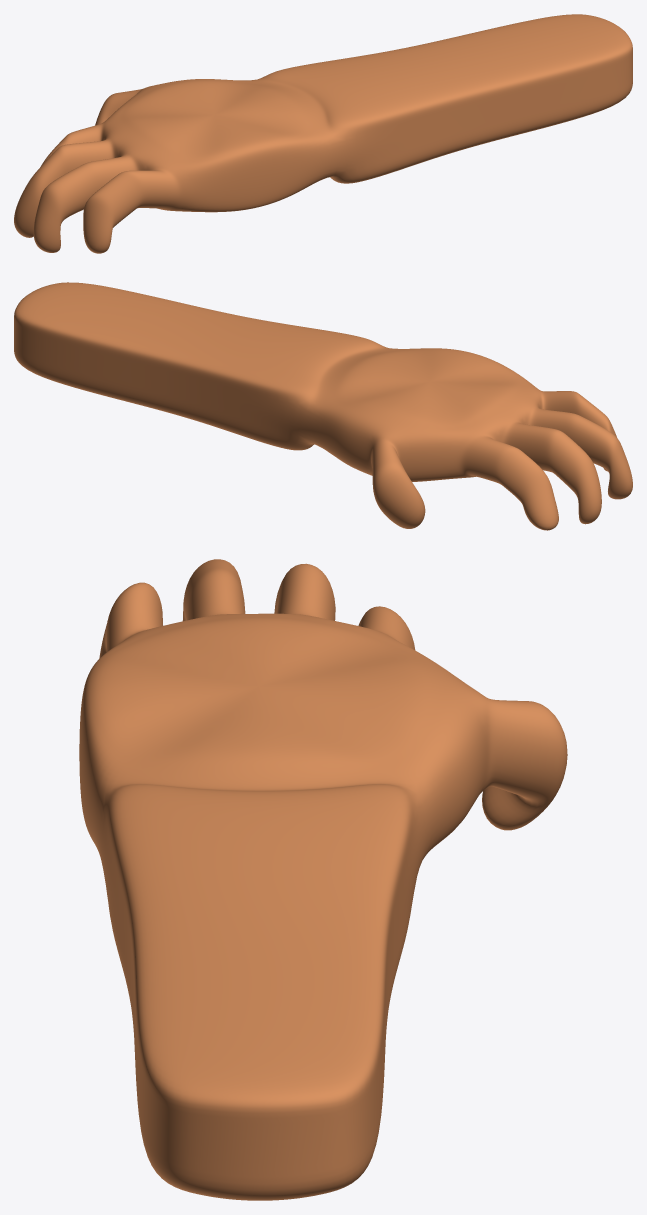
Rendered from hand.fbx.
3 views of the same model, one above another, from view 1: azimuth 30°, elevation 25°; view 2: azimuth 150°, elevation 25°; view 3: azimuth 270°, elevation 25° (orthographic). The views are drawn at different scales.
Visible parts, largest first — view 1: Roundcube; view 2: Roundcube; view 3: Roundcube.
Boxes of the visible parts, x1=… form: Roundcube: x1=14, y1=14, x2=632, y2=253; Roundcube: x1=14, y1=282, x2=632, y2=530; Roundcube: x1=79, y1=559, x2=567, y2=1200.
Bounding box in the file's own units: 559 × 82.87 × 199.
